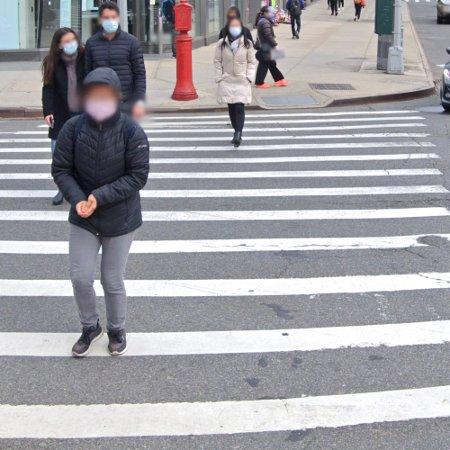crosswalks: (0, 106, 450, 450)
